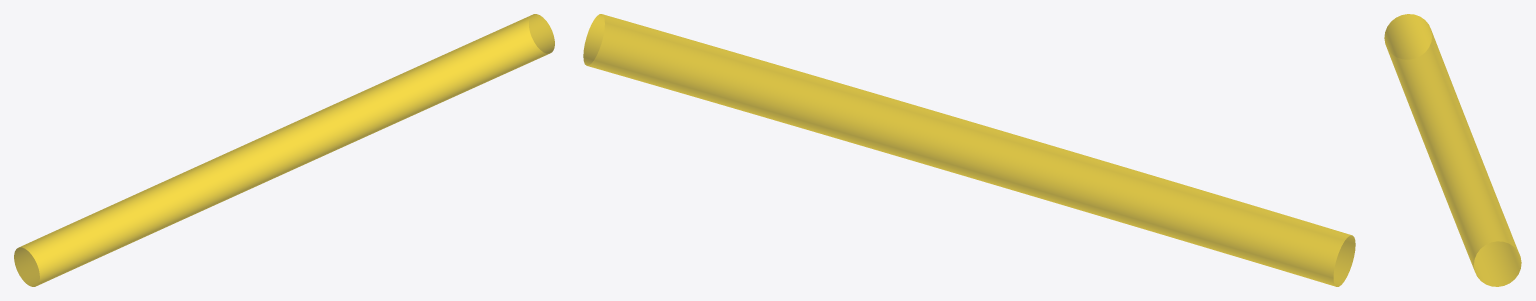
File: Event_402970704_track_59.fbx
The picture shows the model from 3 angles, left to right: view 1: azimuth 30°, elevation 25°; view 2: azimuth 150°, elevation 25°; view 3: azimuth 270°, elevation 25°; orthographic projection. The views are drawn at different scales.
Visible parts, largest first — view 1: Model; view 2: Model; view 3: Model.
Boxes of the visible parts, bbox=[...] form: Model: bbox=[14, 14, 554, 286]; Model: bbox=[583, 14, 1355, 286]; Model: bbox=[1384, 14, 1521, 286].
Bounding box in the file's own units: 0.6057 × 0.1109 × 0.1139.
